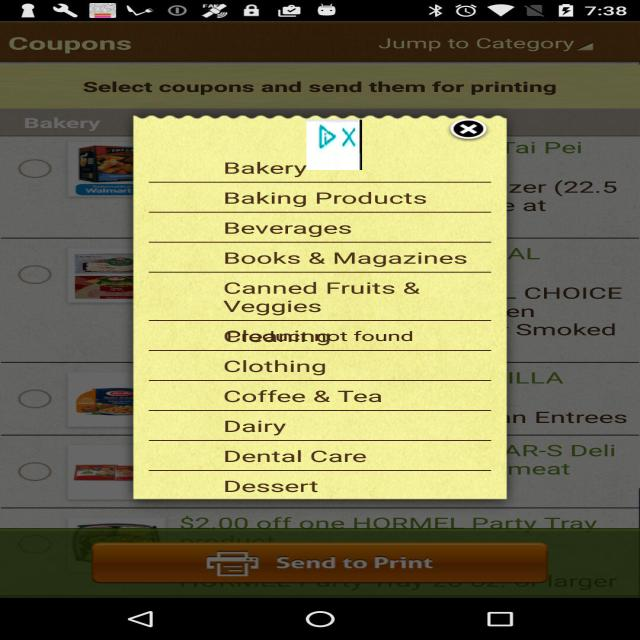sneaking: (306, 120, 362, 170)
